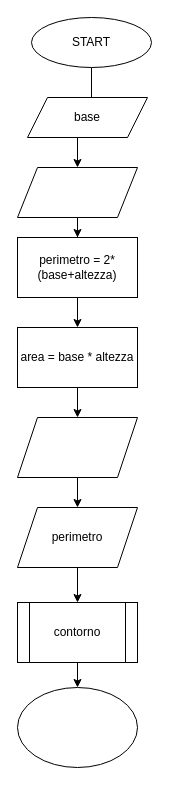
The diagram is 169 pixels wide and 785 high, and some of its shapes have lost their labels. The box of each missing label's shape, as (x1, y1, x2, y2) in pixels:
altezza: (16, 166, 138, 218)
area: (16, 416, 138, 478)
END: (16, 686, 138, 768)
